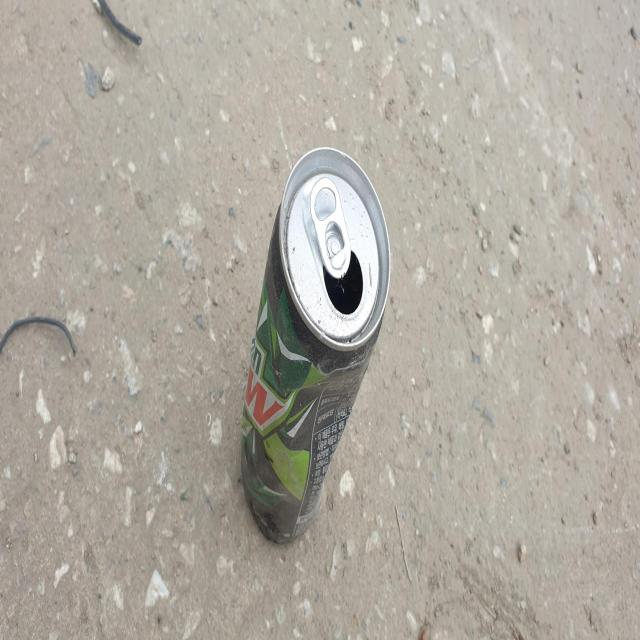can: (241, 146, 391, 543)
